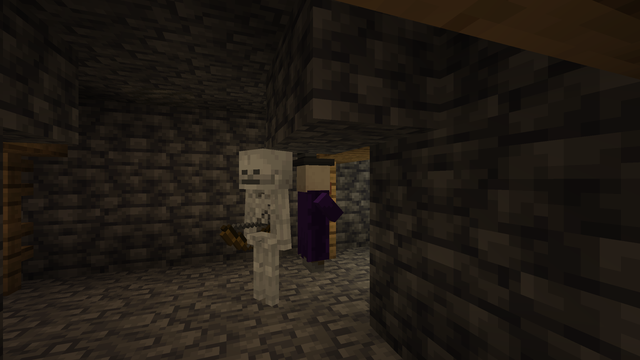sorcieres: (299, 160, 333, 275)
squelettes: (241, 149, 292, 315)
